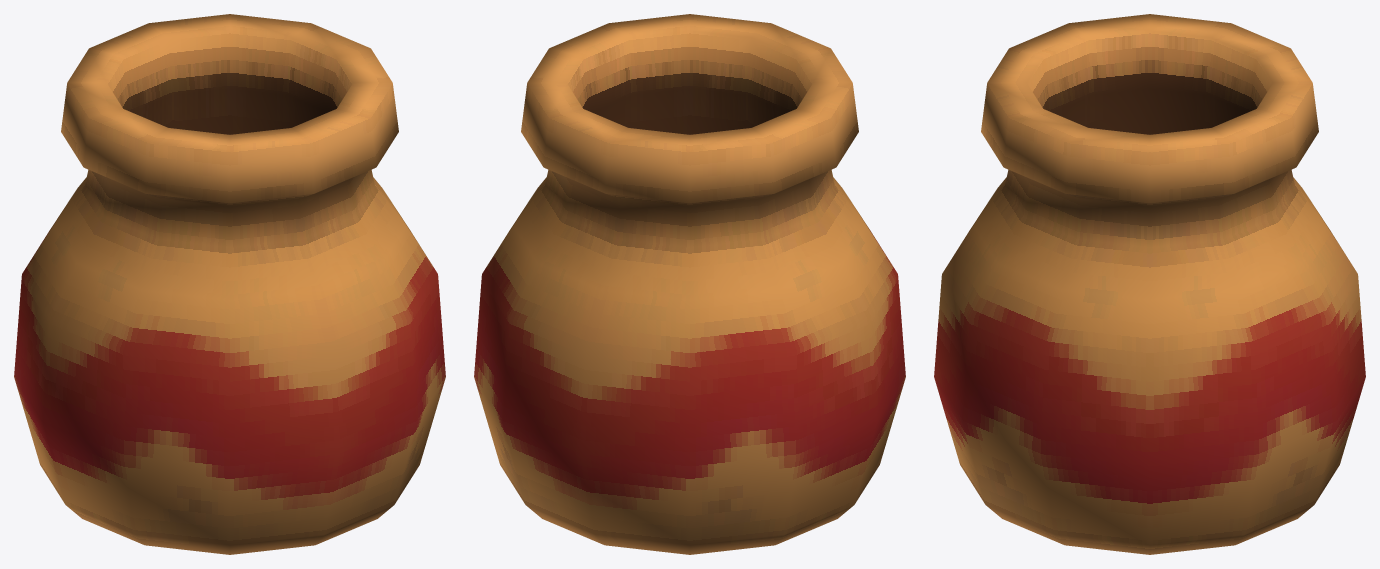
Rendered from Pot.fbx.
3 renders of one model, left to right at view 1: azimuth 30°, elevation 25°; view 2: azimuth 150°, elevation 25°; view 3: azimuth 270°, elevation 25°, orthographic.
Parts seen in each view (by area): view 1: Pot; view 2: Pot; view 3: Pot.
Boxes of the visible parts, x1,y1,x2,y2 form: Pot: [14, 14, 445, 554]; Pot: [474, 14, 905, 554]; Pot: [934, 14, 1365, 554].
Bounding box in the file's own units: 0.5863 × 0.5993 × 0.5863.
